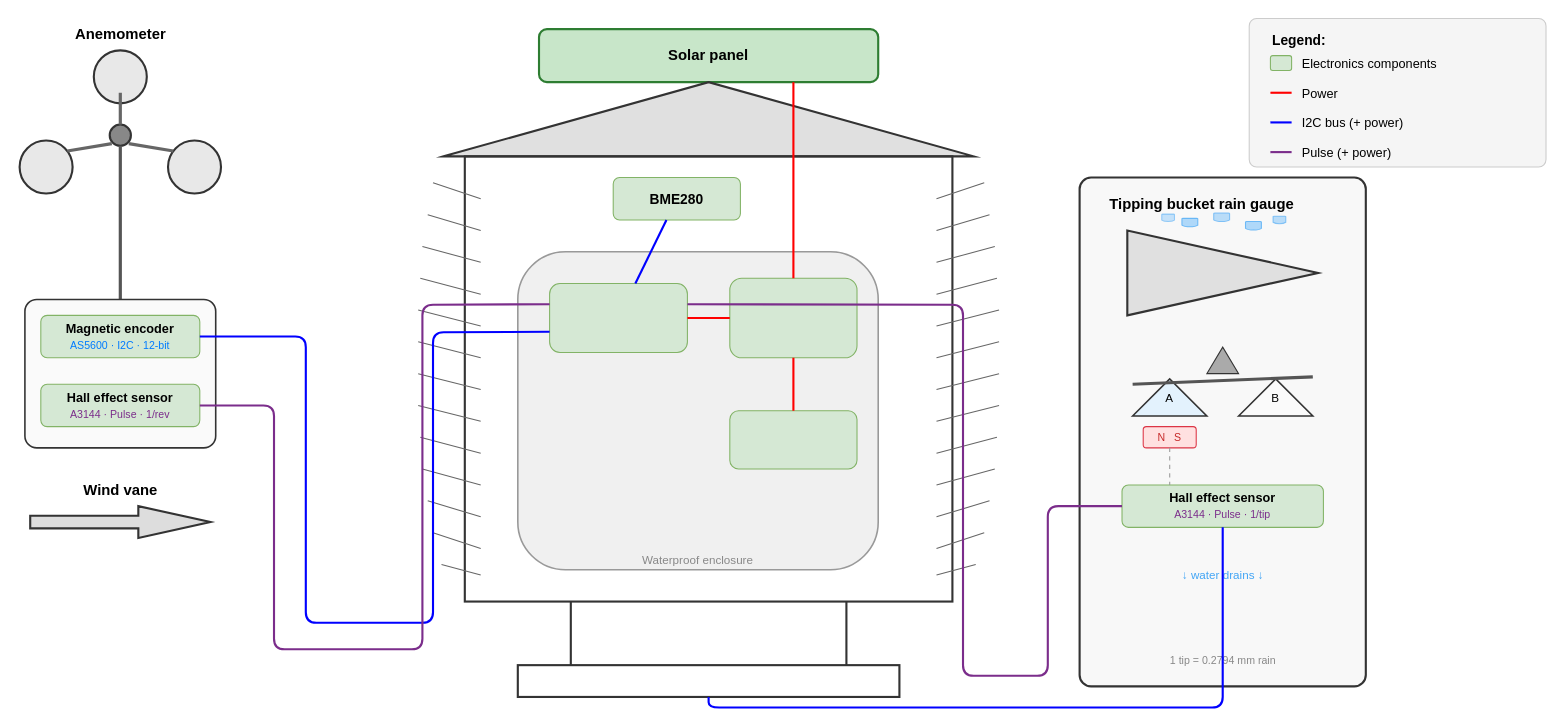
Some shapes in this 1565 by 728 pixel diagram are drawn without their labels. Each missing label, with the centre of its shape:
"Battery Li-Ion 18650" belongs at point 793,439.
"ESP32 FireBeetle v2" belongs at point 618,317.
"Funnel" belongs at point 1222,272.
"TP4056 Battery charge regulator (BMS)" belongs at point 793,317.
